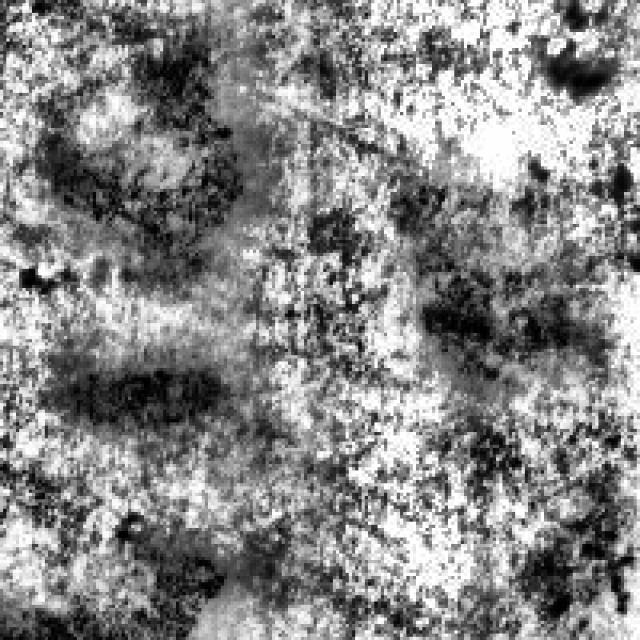Scratches: (26, 0, 252, 298), (400, 227, 602, 384), (44, 339, 262, 464), (35, 499, 236, 634)
